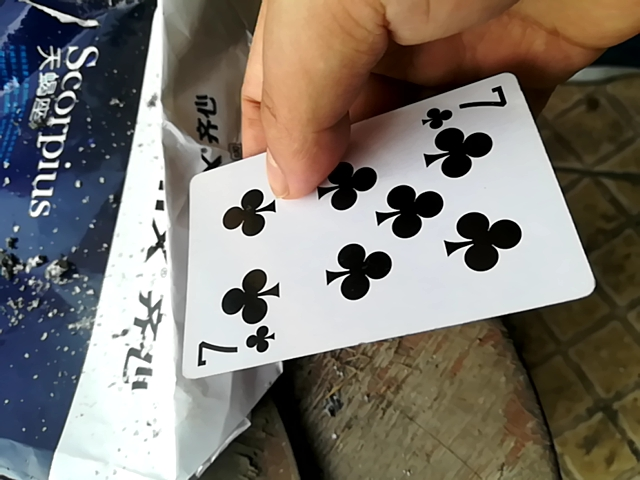mh 7: (167, 74, 599, 384)
